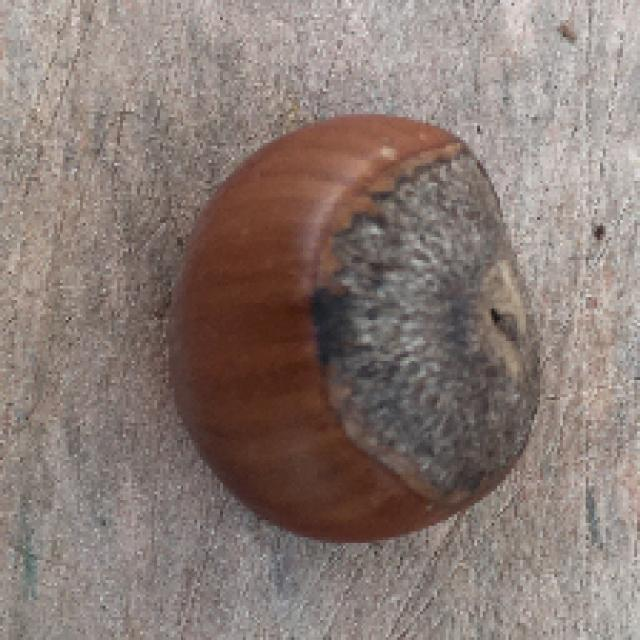DamagedHazelnut: (170, 120, 544, 552)
